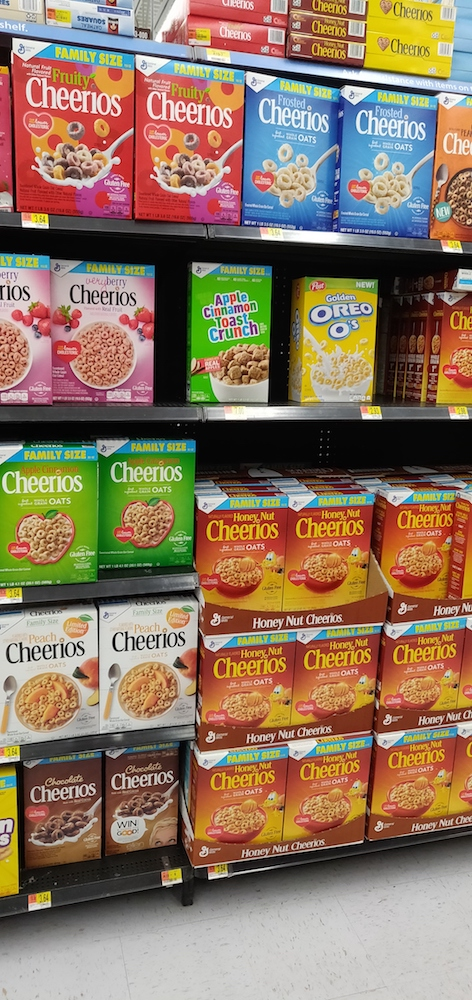Oreo Golden-568301011: (291, 281, 380, 400)
